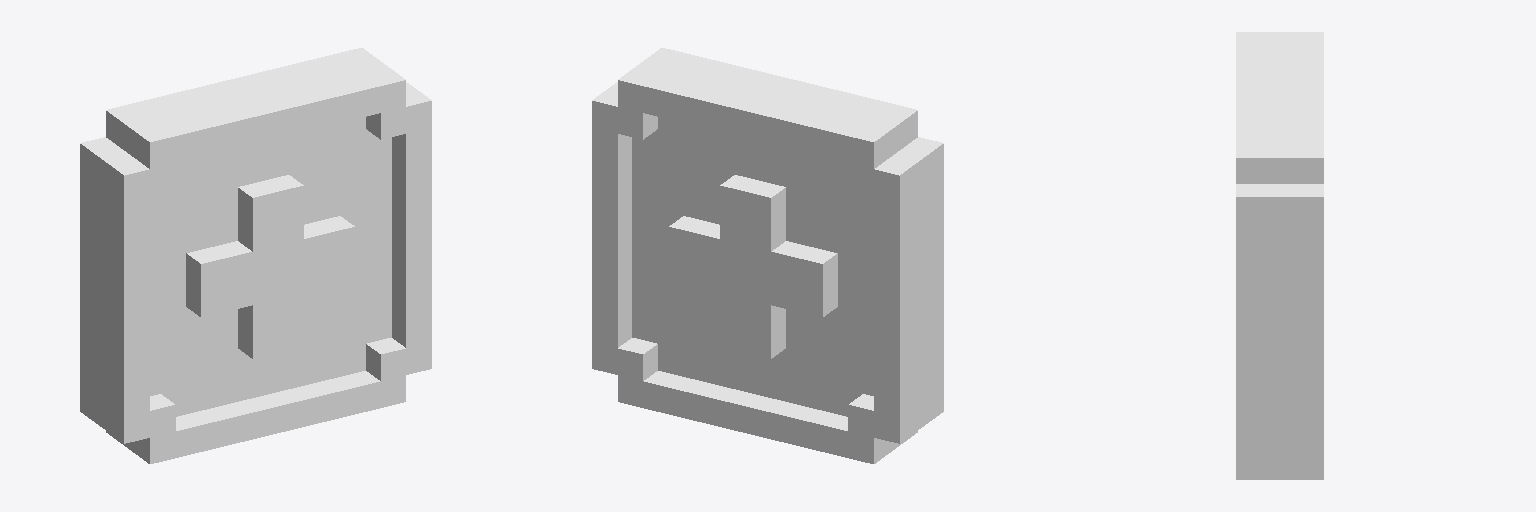
The model's file is Salud_Up.obj.
The picture shows the model from 3 angles: view 1: azimuth 30°, elevation 25°; view 2: azimuth 150°, elevation 25°; view 3: azimuth 270°, elevation 25°; orthographic projection.
Size of the model in its own units: 12 by 12 by 3.